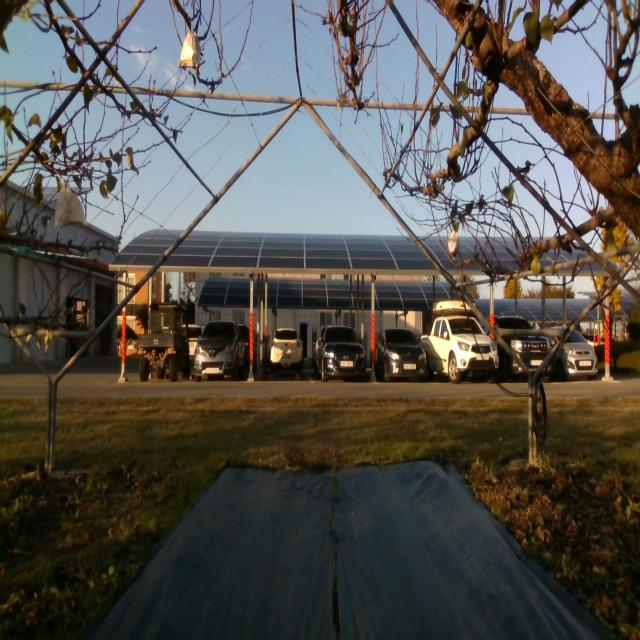pearbags: (54, 186, 88, 229), (178, 32, 200, 70), (447, 230, 461, 259)
